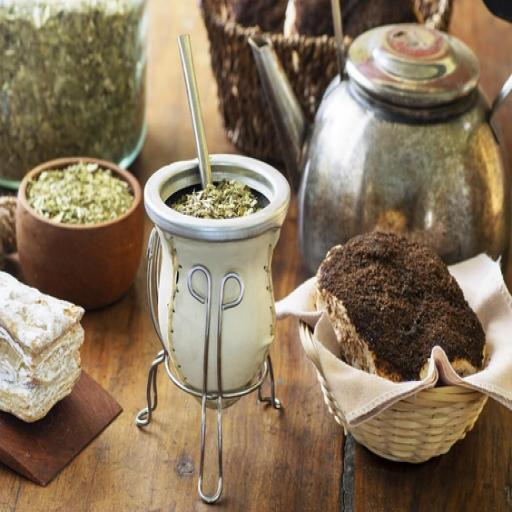bolleria: (317, 234, 486, 381), (0, 272, 84, 421)
mate: (138, 154, 289, 455)
